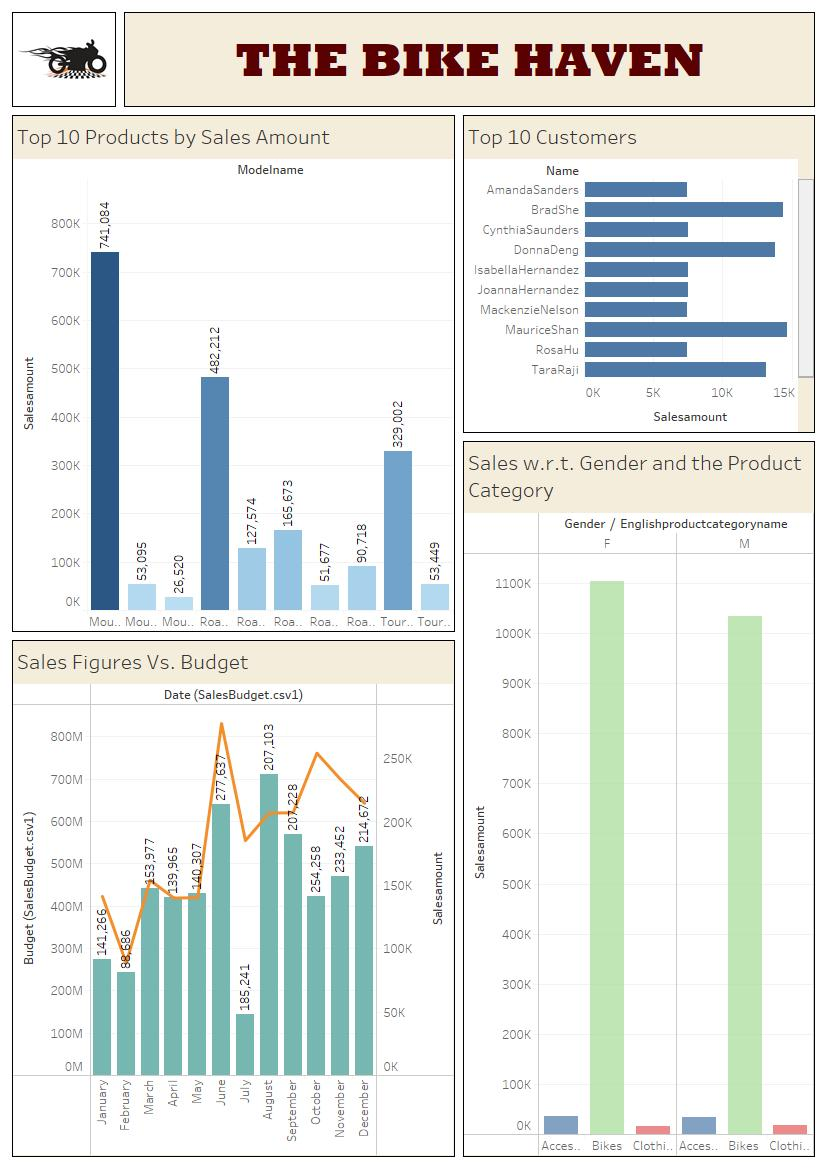

The page's visual inventory and layout, read from the dashboard file:
{"tool":"tableau","page":{"name":"Dashboard 1","canvas":[827,1169],"ordinal":0},"visuals":[{"type":"image","param":"C:/Users/pc/Downloads/images.png","box":[8,8,112,103]},{"type":"text","box":[120,8,699,103]},{"type":"worksheet","title":"Top 10 Products by Sales Amount","mark":"Automatic","rows":["salesamount"],"cols":["modelname"],"box":[8,111,451,525]},{"type":"worksheet","title":"Top 10 Customers","mark":"Automatic","rows":["Calculation_118782495428952064"],"cols":["salesamount"],"box":[459,111,360,326]},{"type":"worksheet","title":"Sales w.r.t. Gender and the Product Category","mark":"Automatic","rows":["salesamount"],"cols":["gender","englishproductcategoryname"],"box":[459,437,360,724]},{"type":"worksheet","title":"Sales Figures Vs. Budget","mark":"Automatic","rows":["Budget (SalesBudget.csv1)","salesamount"],"cols":["Date (SalesBudget.csv1)"],"box":[8,636,451,525]}]}

Visuals, with their boxes in screenshot pixels (x1, y1, x2, y2), scaled from the page's 827x1169 canvas onto the 827x1169 screenshot:
image: (8, 8, 120, 111)
text: (120, 8, 819, 111)
"Top 10 Products by Sales Amount" worksheet: (8, 111, 459, 636)
"Top 10 Customers" worksheet: (459, 111, 819, 437)
"Sales w.r.t. Gender and the Product Category" worksheet: (459, 437, 819, 1161)
"Sales Figures Vs. Budget" worksheet: (8, 636, 459, 1161)
